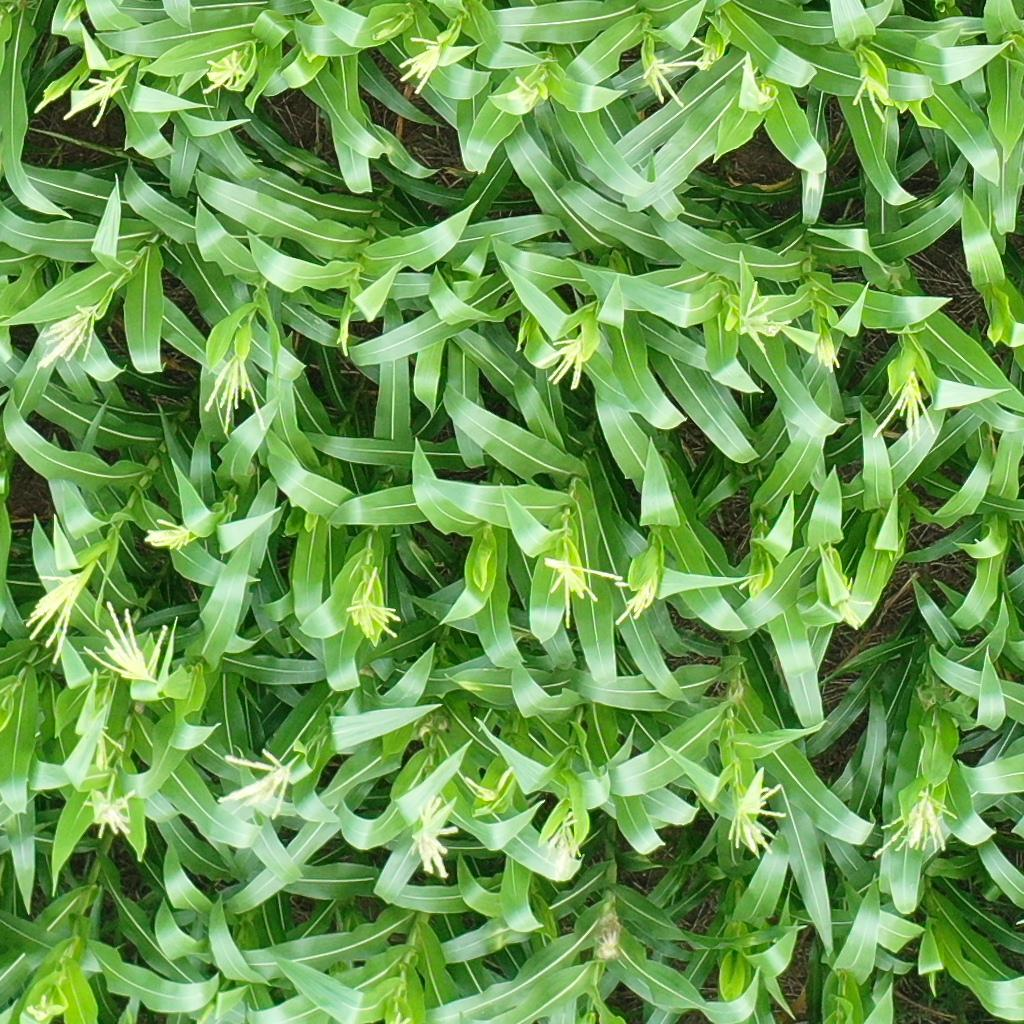Tassel: (85, 598, 173, 696), (636, 33, 722, 109), (218, 746, 303, 821), (871, 789, 958, 859), (871, 370, 939, 454), (202, 355, 273, 430), (539, 553, 610, 628), (725, 777, 789, 860), (31, 72, 123, 127), (25, 569, 78, 663), (338, 567, 404, 642), (410, 794, 462, 880), (732, 277, 791, 350), (37, 303, 102, 368), (84, 772, 137, 839), (398, 30, 454, 93), (829, 575, 876, 633), (538, 337, 586, 390), (611, 568, 655, 622), (139, 512, 197, 551), (203, 46, 248, 96), (540, 809, 583, 861), (854, 69, 892, 125), (463, 765, 514, 806), (88, 722, 127, 769), (502, 74, 543, 111), (813, 337, 844, 372), (746, 82, 776, 110), (735, 573, 767, 598), (333, 314, 351, 358)
